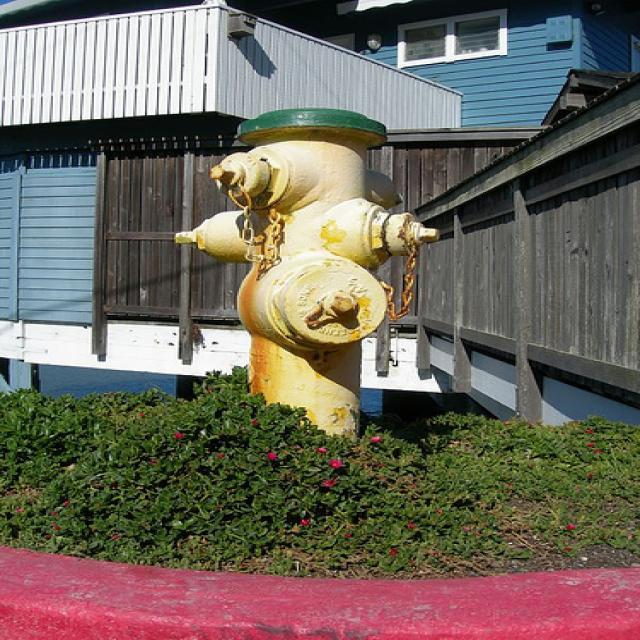fire_hydrant: (164, 108, 438, 446)
